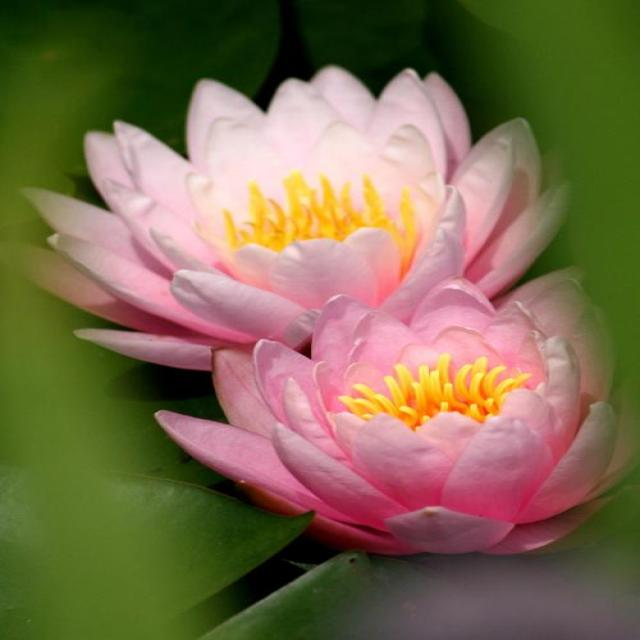water-lily: (126, 257, 640, 588), (47, 52, 572, 361)
